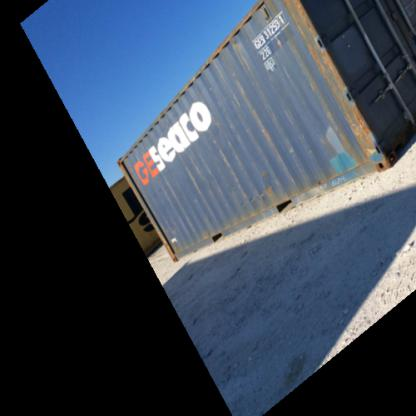Damage: (245, 74, 295, 176), (324, 81, 380, 172), (287, 2, 346, 75), (214, 137, 245, 193), (232, 194, 293, 212), (181, 153, 204, 195), (158, 172, 179, 214), (231, 30, 254, 66), (167, 230, 182, 246)
